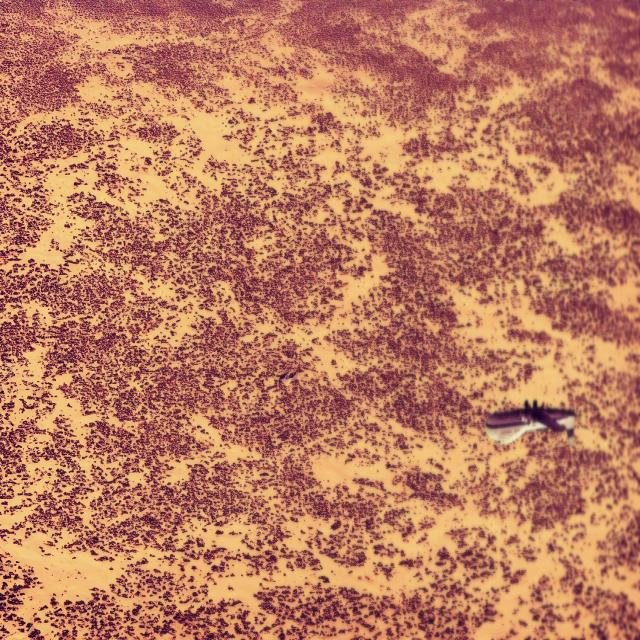airplane: (484, 398, 576, 446)
